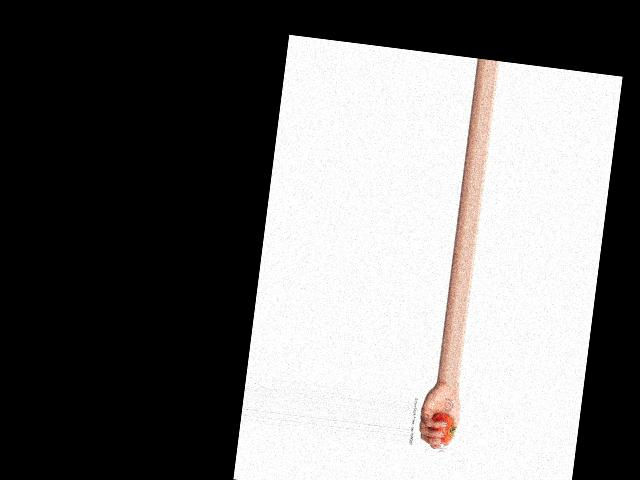tomato: (427, 413, 456, 445)
